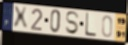0: (50, 9, 63, 35), (101, 14, 113, 39)
2: (30, 8, 43, 32)
L: (84, 12, 97, 38)
S: (65, 11, 81, 36)
X: (12, 6, 29, 30)
